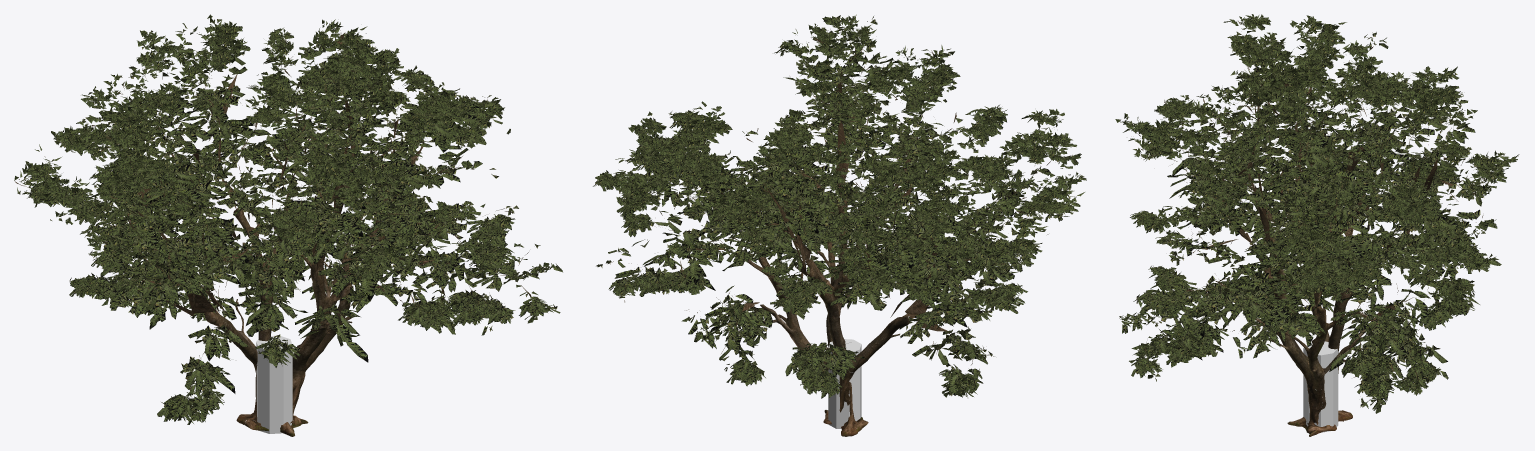
Rendered from ph_jacaranda_tree.glb.
3 renders of one model, left to right at view 1: azimuth 30°, elevation 25°; view 2: azimuth 150°, elevation 25°; view 3: azimuth 270°, elevation 25°, orthographic. The views are drawn at different scales.
Visible parts, largest first — view 1: ph_jacaranda_tree, ph_jacaranda_tree_col; view 2: ph_jacaranda_tree, ph_jacaranda_tree_col; view 3: ph_jacaranda_tree, ph_jacaranda_tree_col.
Part boxes in pixels (bbox=[...]): ph_jacaranda_tree: bbox=[14, 14, 562, 436]; ph_jacaranda_tree_col: bbox=[256, 335, 292, 433]; ph_jacaranda_tree: bbox=[593, 14, 1086, 436]; ph_jacaranda_tree_col: bbox=[828, 339, 861, 429]; ph_jacaranda_tree: bbox=[1115, 14, 1519, 436]; ph_jacaranda_tree_col: bbox=[1303, 341, 1338, 432].
Size of the model in its own units: 24.41 by 19.51 by 18.98.
3 materials, 3 textured.
